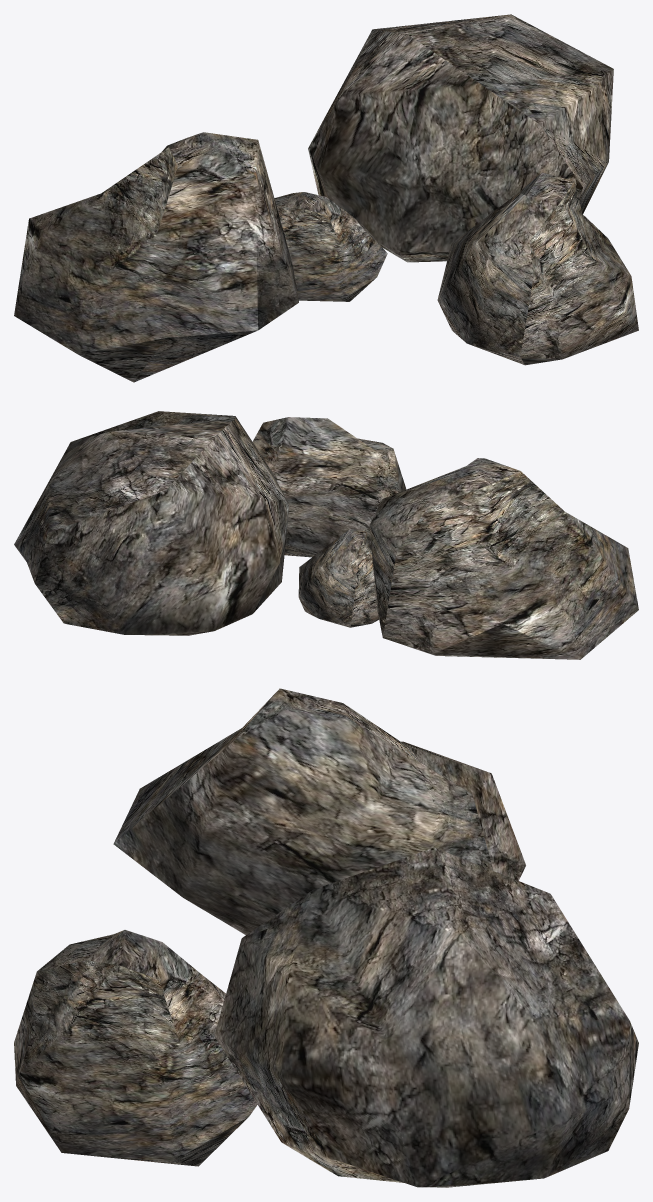
Rendered from pir_m_prp_cav_rockGroup_h.fbx.
3 renders of one model, top to bottom at view 1: azimuth 30°, elevation 25°; view 2: azimuth 150°, elevation 25°; view 3: azimuth 270°, elevation 25°, orthographic. The views are drawn at different scales.
Visible parts, largest first — view 1: rock_2, rock_1, rock_3, rock_4; view 2: rock_2, rock_1, rock_3, rock_4; view 3: rock_2, rock_1, rock_3.
Part boxes in pixels (x1,y1,x2,y2): rock_2: (308,14,613,262); rock_1: (14,132,298,382); rock_3: (437,172,638,365); rock_4: (274,192,387,301); rock_2: (14,411,289,635); rock_1: (369,458,638,659); rock_3: (252,417,406,557); rock_4: (298,529,378,627); rock_2: (214,847,638,1187); rock_1: (113,688,525,934); rock_3: (14,930,257,1166).
Bounding box in the file's own units: 993 × 359 × 723.
1 material, 1 textured.
